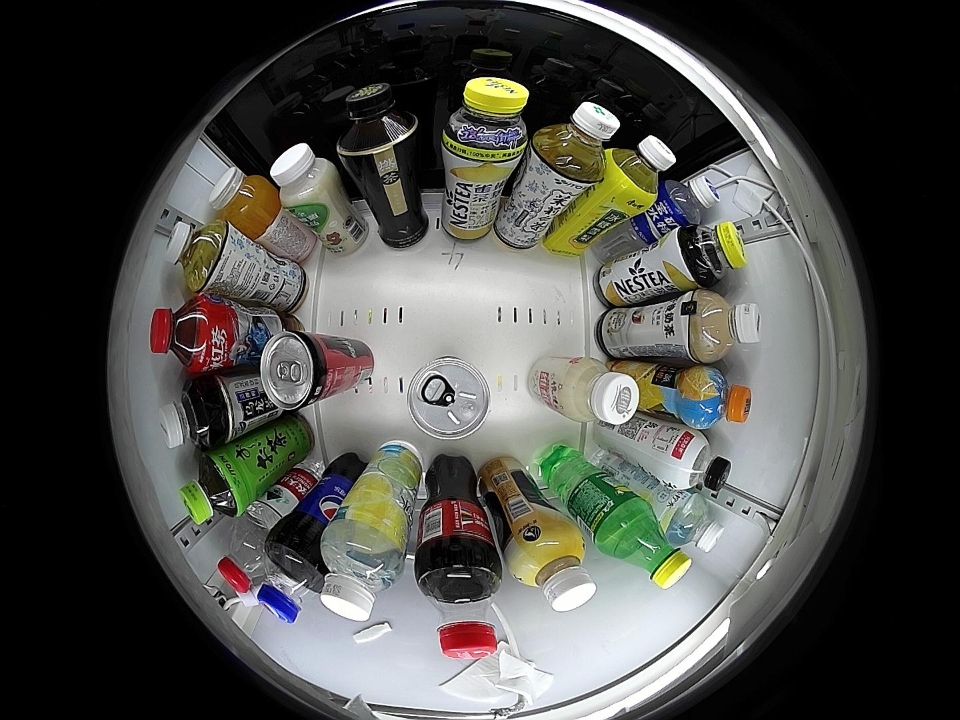asamu: (511, 529, 595, 613)
baicha: (532, 100, 619, 184), (165, 221, 227, 293)
baishikele-2: (257, 541, 322, 625)
baokuangli: (663, 173, 721, 227)
binghongcha: (150, 298, 215, 372)
bingtangxueli: (605, 134, 676, 207)
chacui: (440, 75, 530, 166), (680, 221, 748, 288)
guolicheng: (681, 366, 752, 428)
kele-b: (417, 557, 505, 661)
lingdukele: (259, 327, 334, 411)
nongfushanquan: (217, 522, 276, 594)
qinningshui: (318, 525, 405, 625), (666, 493, 725, 555)
rancha-1: (340, 81, 421, 162)
weic: (208, 167, 279, 235)
weiweidounai: (561, 357, 640, 427)
wuhounaicha: (689, 290, 763, 363)
wulongcha: (158, 380, 224, 450)
xuebi-b: (608, 512, 691, 590)
yezhi: (406, 355, 492, 441)
yitengyuan: (179, 452, 249, 524)
yousuanru: (269, 142, 340, 213)
yuanqishui: (664, 430, 732, 495)
